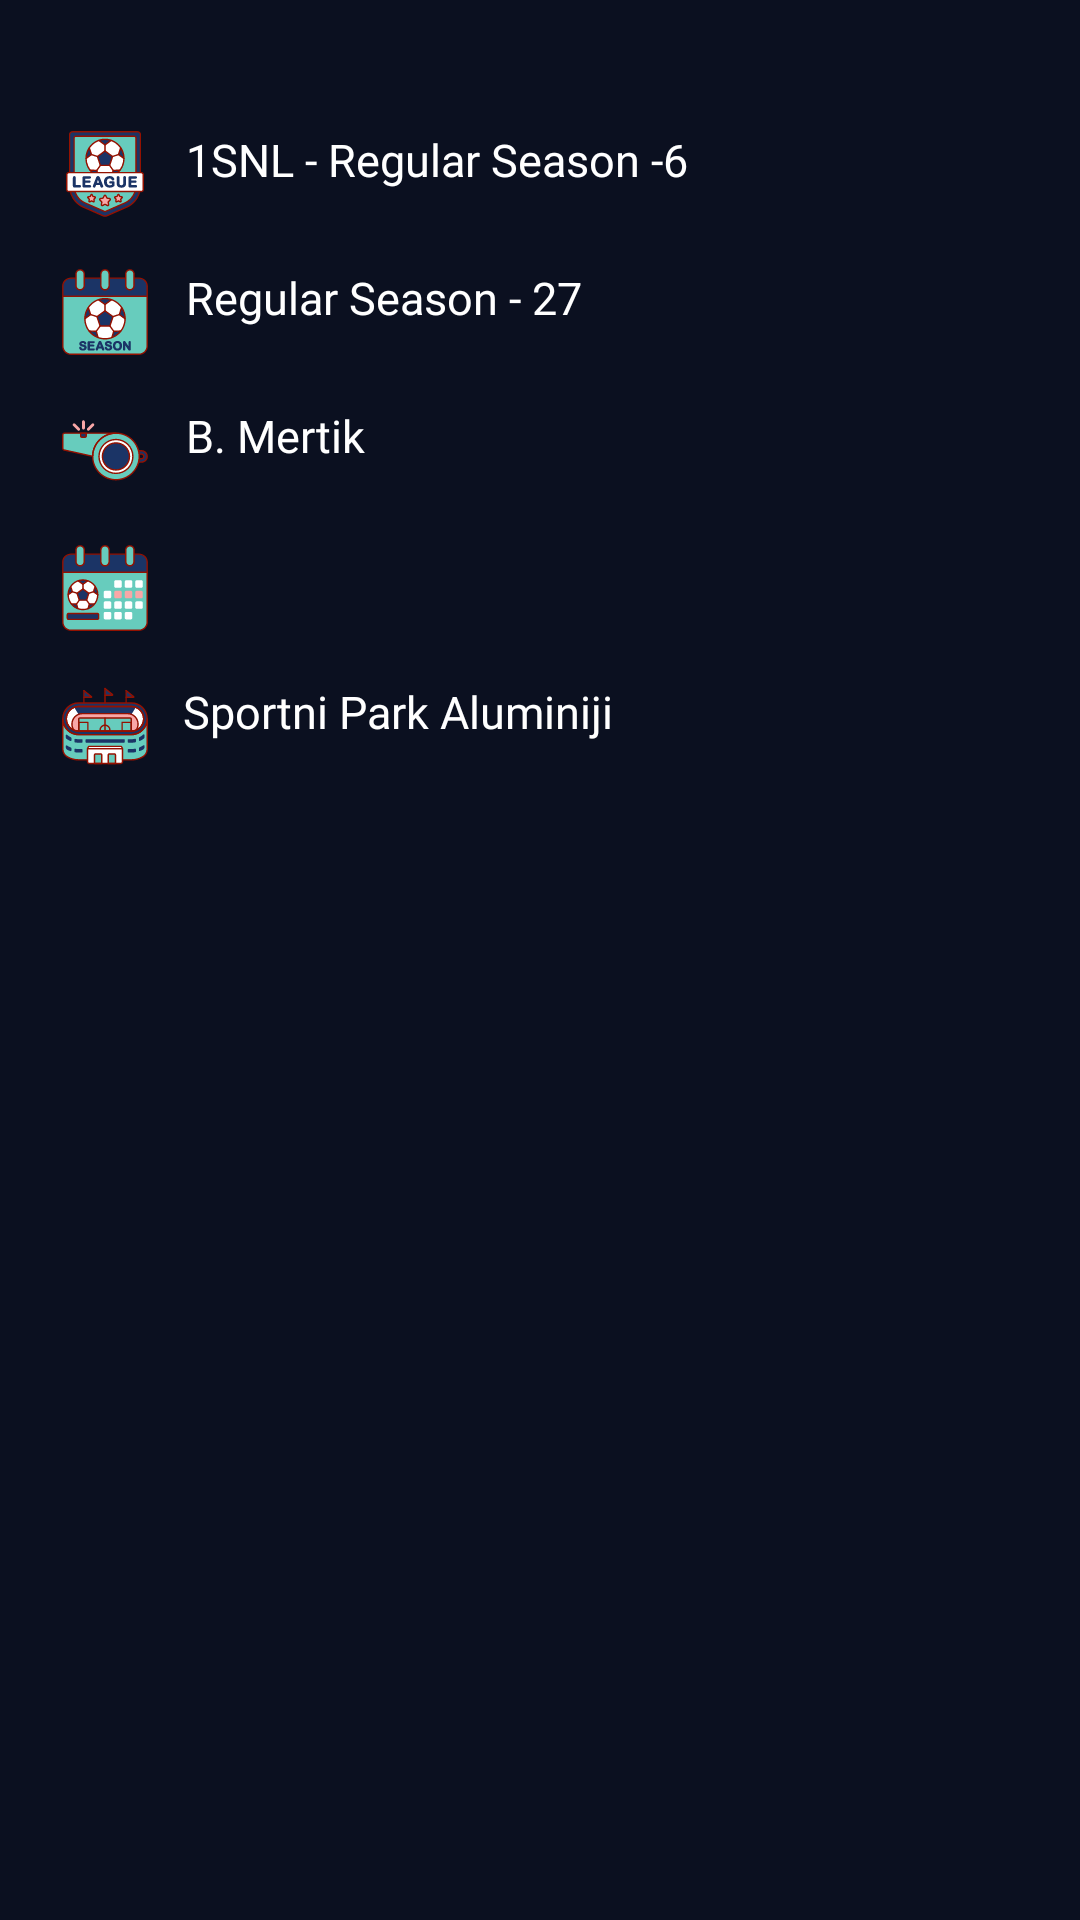

Where to tap for icons on this 1080 × 1920 app screen, as (x=x, y=y):
calendar: (x=105, y=588)
stadium: (x=105, y=726)
